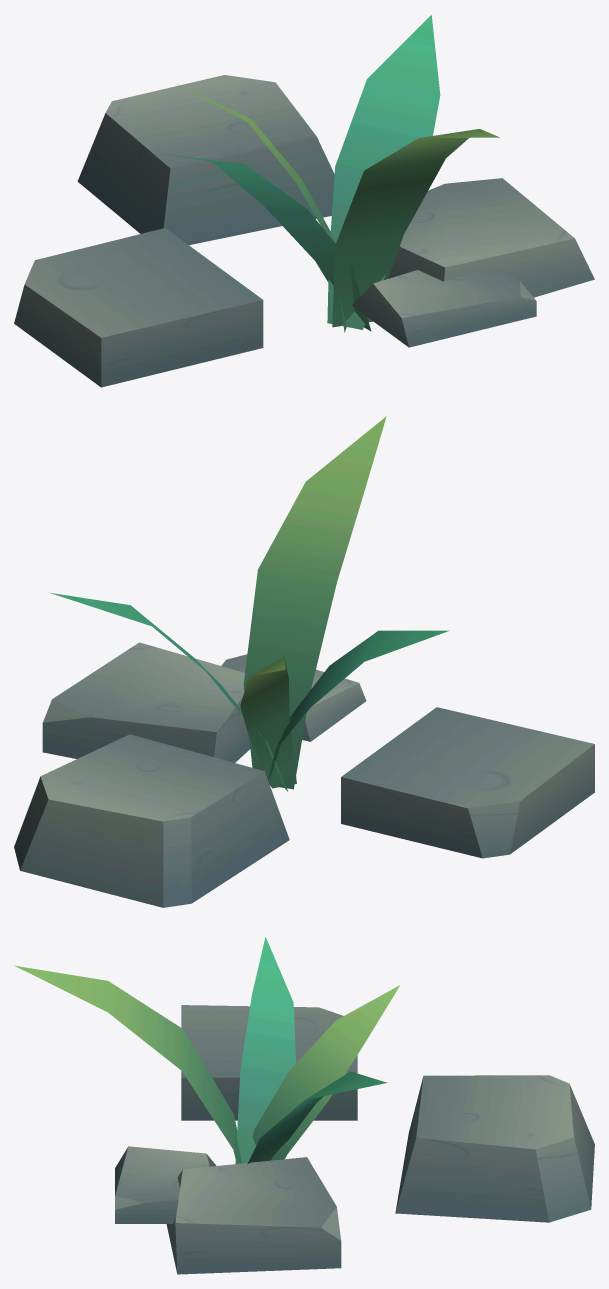
Rendered from FloorDeco2B-002_02_14_7888.fbx.
3 views of the same model, one above another, from view 1: azimuth 30°, elevation 25°; view 2: azimuth 150°, elevation 25°; view 3: azimuth 270°, elevation 25° (orthographic). The views are drawn at different scales.
Visible parts, largest first — view 1: DecoRocks (1), Plant3 (1); view 2: DecoRocks (1), Plant3 (1); view 3: DecoRocks (1), Plant3 (1).
Boxes of the visible parts, bbox=[...] form: DecoRocks (1): bbox=[14, 75, 594, 387]; Plant3 (1): bbox=[160, 15, 499, 332]; DecoRocks (1): bbox=[14, 642, 594, 907]; Plant3 (1): bbox=[49, 416, 449, 791]; DecoRocks (1): bbox=[115, 1005, 594, 1274]; Plant3 (1): bbox=[14, 937, 400, 1164].
Size of the model in its own units: 2.15 by 1.18 by 2.45.
